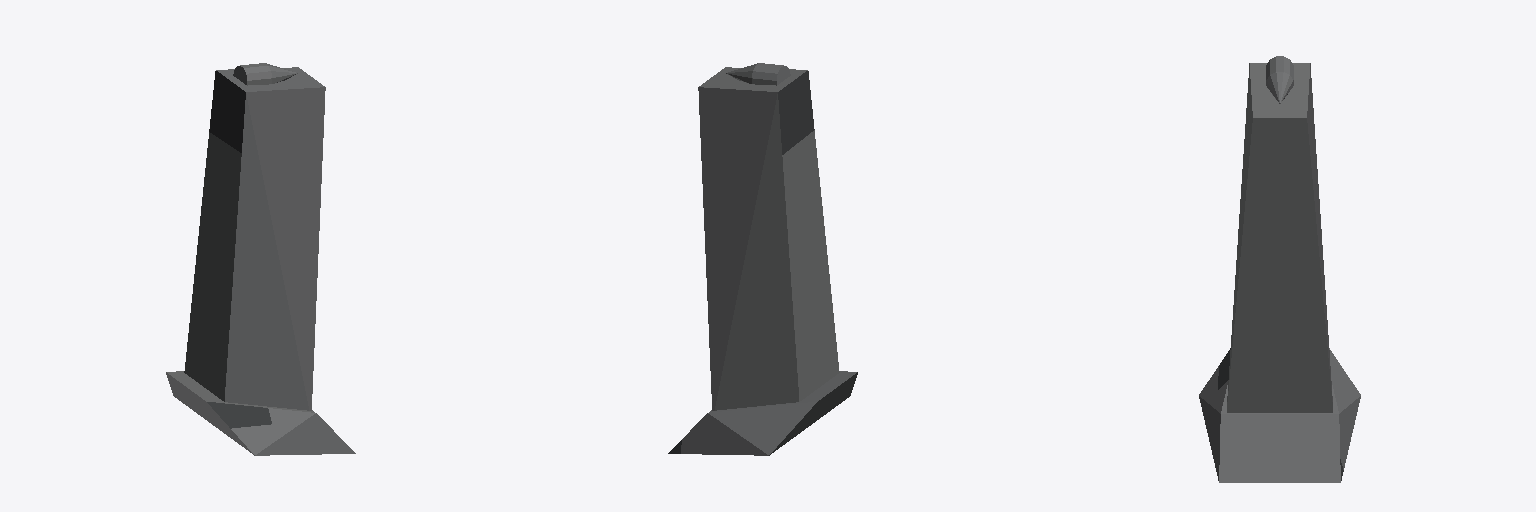
3 views of the same model, side by side, from view 1: azimuth 30°, elevation 25°; view 2: azimuth 150°, elevation 25°; view 3: azimuth 270°, elevation 25° (orthographic).
Visible parts, largest first — view 1: cuboid, cone; view 2: cuboid, cone; view 3: cuboid, cone.
Boxes of the visible parts, x1,y1,x2,y2 form: cuboid: [166, 67, 355, 455]; cone: [233, 63, 297, 85]; cuboid: [668, 67, 857, 455]; cone: [726, 63, 790, 85]; cuboid: [1199, 63, 1360, 482]; cone: [1266, 56, 1293, 103].
Size of the model in its own units: 0.0748 by 0.1962 by 0.075.
1 materials, 1 textured.